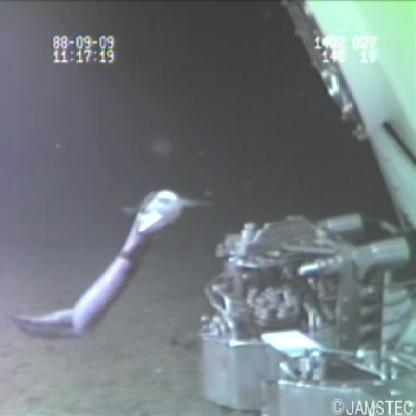Bio: (1, 189, 217, 346)
Rov: (194, 205, 415, 416)
